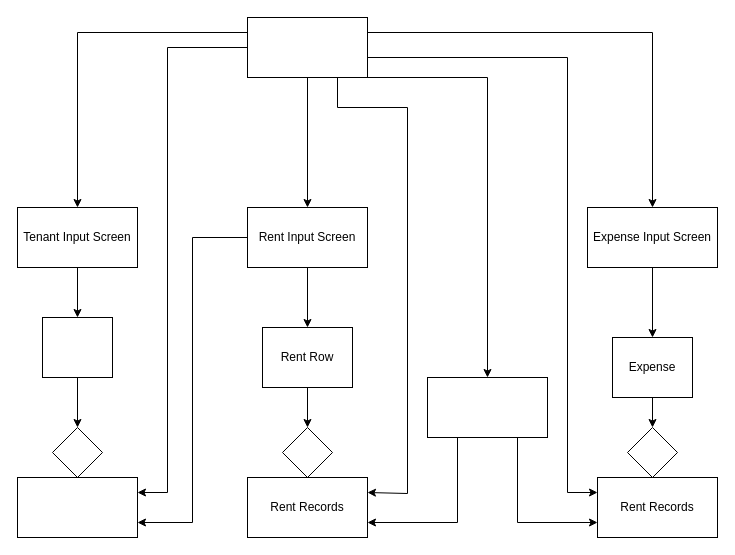
Image size: 735x555. Some labels were removed from this diagram. The shapes that lost their labels are listed below. From the top down, each one's centre as x and y in pixels, then its label:
[307,47]: User Interface
[77,347]: Tenant
[487,407]: Annual Report
[77,507]: Tenant List
